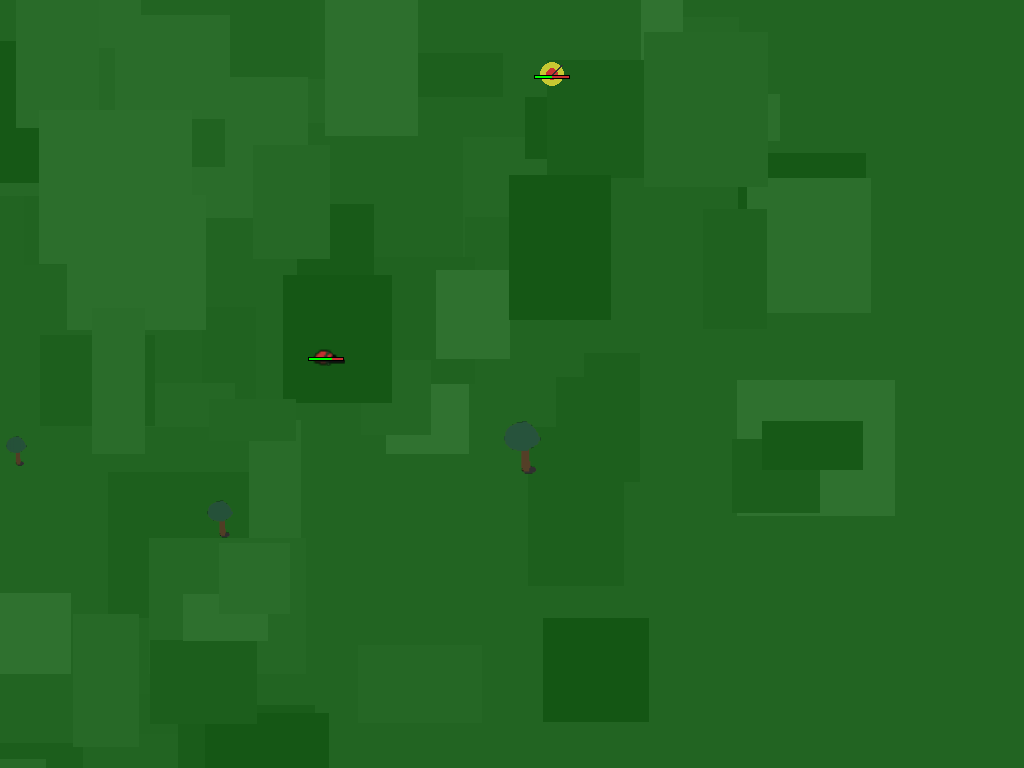CombatEngineer: (532, 54, 573, 95)
Sniper: (305, 335, 346, 376)
